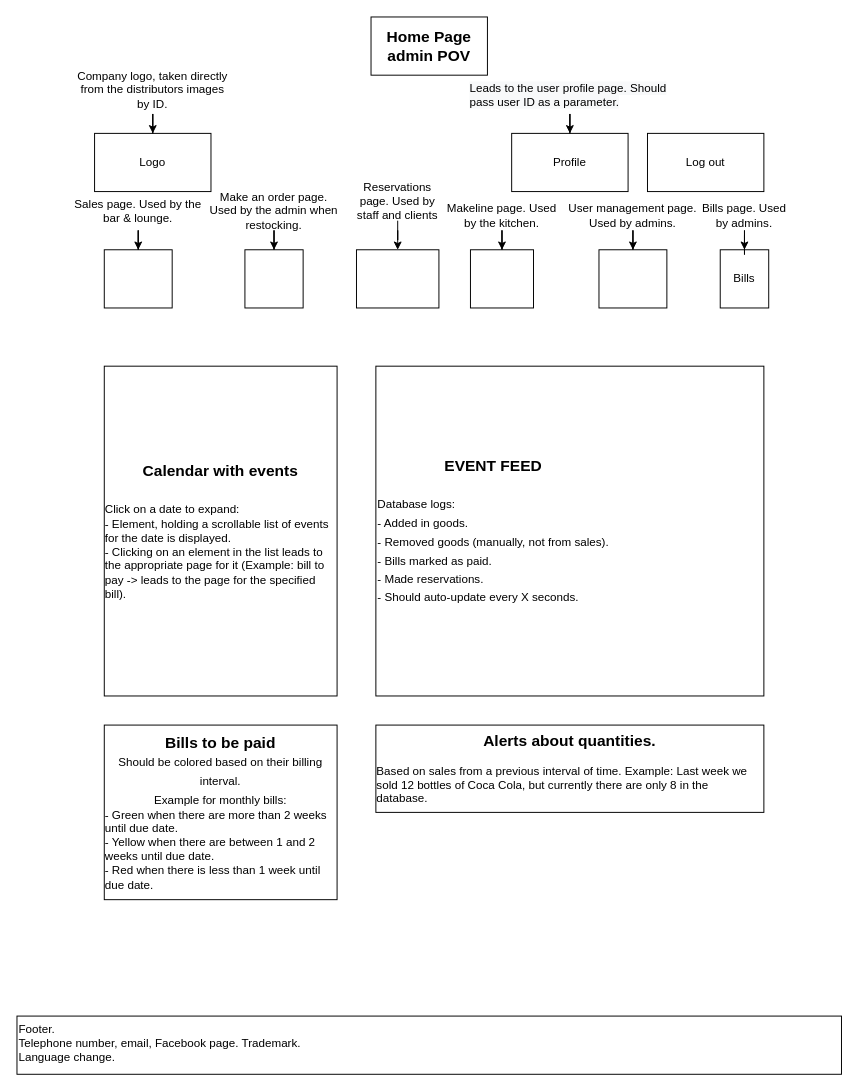
The diagram is 858 pixels wide and 1091 high, and some of its shapes have lost their labels. Here are the shapes that lost their labels. From the top down, the centre of each, then its label:
the point at 137,278: Sell
the point at 273,278: Make an Order
the point at 397,278: Reservations
the point at 501,278: Makeline
the point at 632,278: Users
